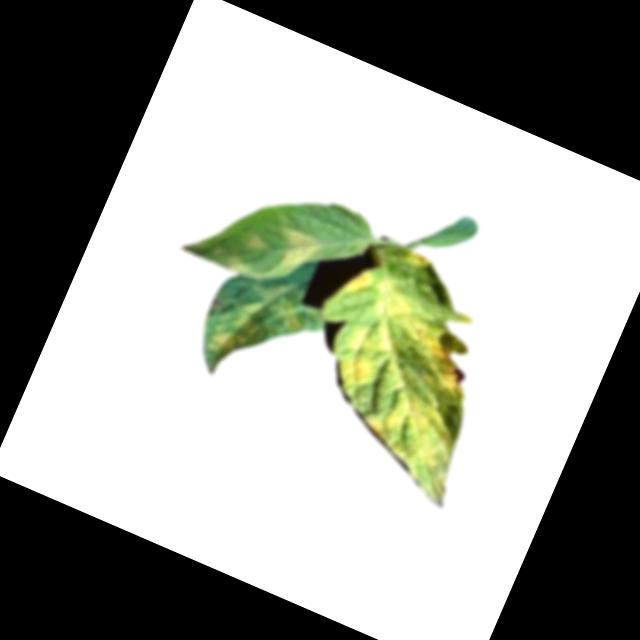Leaf_Mold: (276, 230, 533, 508), (197, 262, 317, 391), (268, 224, 326, 286), (238, 227, 274, 257)
